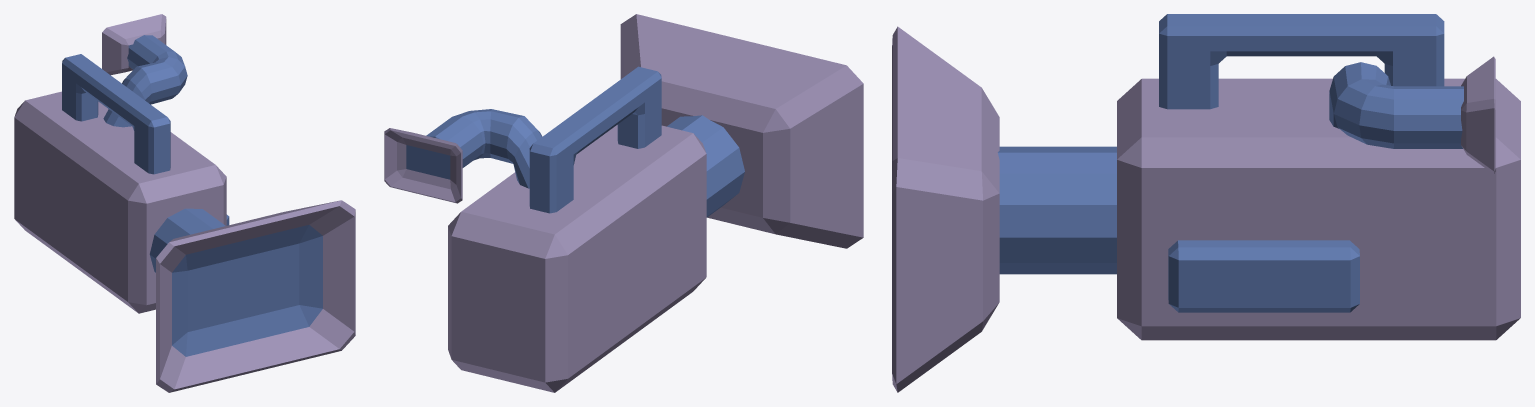
File: camera.fbx
3 renders of one model, left to right at view 1: azimuth 30°, elevation 25°; view 2: azimuth 150°, elevation 25°; view 3: azimuth 270°, elevation 25°, orthographic. The views are drawn at different scales.
Visible parts, largest first — view 1: camera; view 2: camera; view 3: camera.
Part boxes in pixels (x1,y1,x2,y2): camera: [14, 14, 355, 392]; camera: [384, 14, 863, 392]; camera: [892, 14, 1520, 392].
Size of the model in its own units: 263 by 242 by 455.
